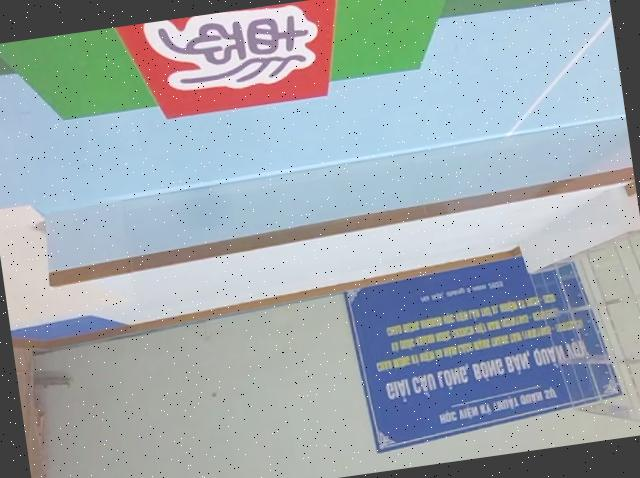R2 Fake: (108, 0, 353, 127)
